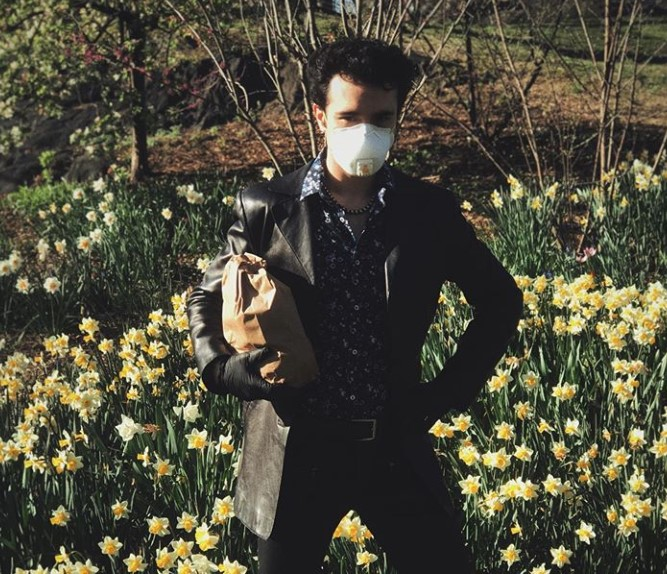face_with_mask: (310, 53, 403, 177)
